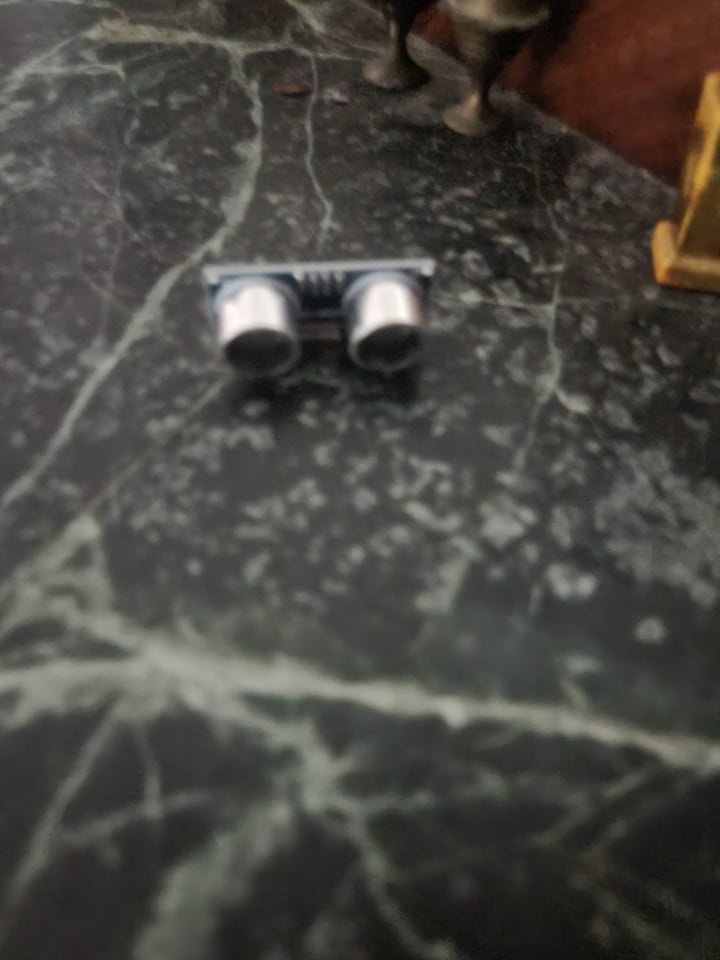SENSOR: (208, 258, 437, 384)
